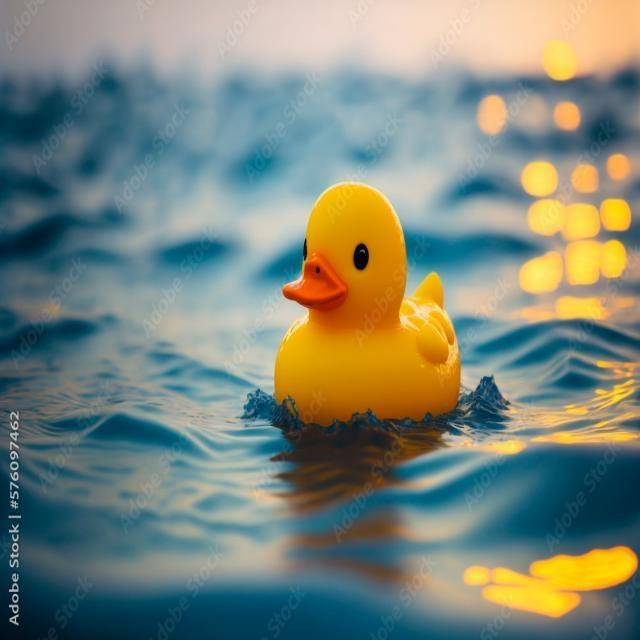rubber-duck: (273, 182, 458, 423)
